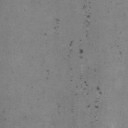oxide scale of temperature system: (85, 13, 91, 27), (54, 18, 60, 31), (96, 86, 102, 94), (70, 102, 74, 113), (72, 117, 76, 126), (69, 40, 74, 46), (79, 48, 84, 54), (82, 4, 86, 10), (84, 80, 88, 86), (52, 120, 56, 126)
